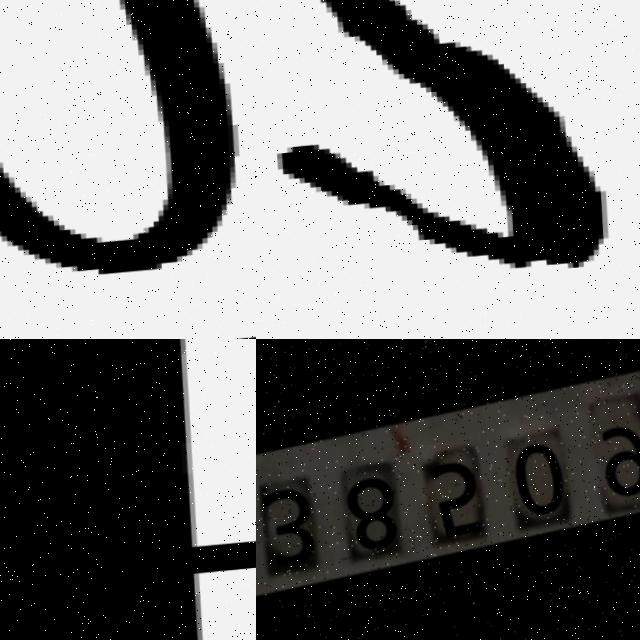0: (0, 0, 256, 308), (492, 428, 581, 535)
2: (256, 0, 628, 321)
3: (256, 471, 333, 582)
5: (406, 446, 497, 555)
8: (325, 461, 416, 569)
9: (575, 405, 640, 521)
F: (0, 339, 256, 640)
